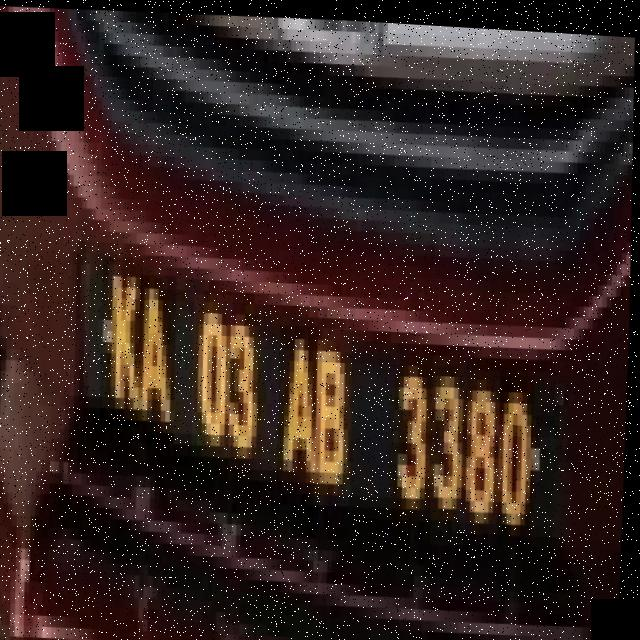0: (191, 290, 238, 455), (498, 368, 539, 540)
3: (430, 349, 472, 542), (395, 344, 438, 505), (227, 294, 266, 470)
8: (464, 363, 506, 529)
A: (277, 320, 324, 480), (137, 271, 181, 441)
B: (314, 323, 358, 502)
K: (99, 254, 147, 427)
